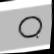no answer: (15, 13, 45, 42)
